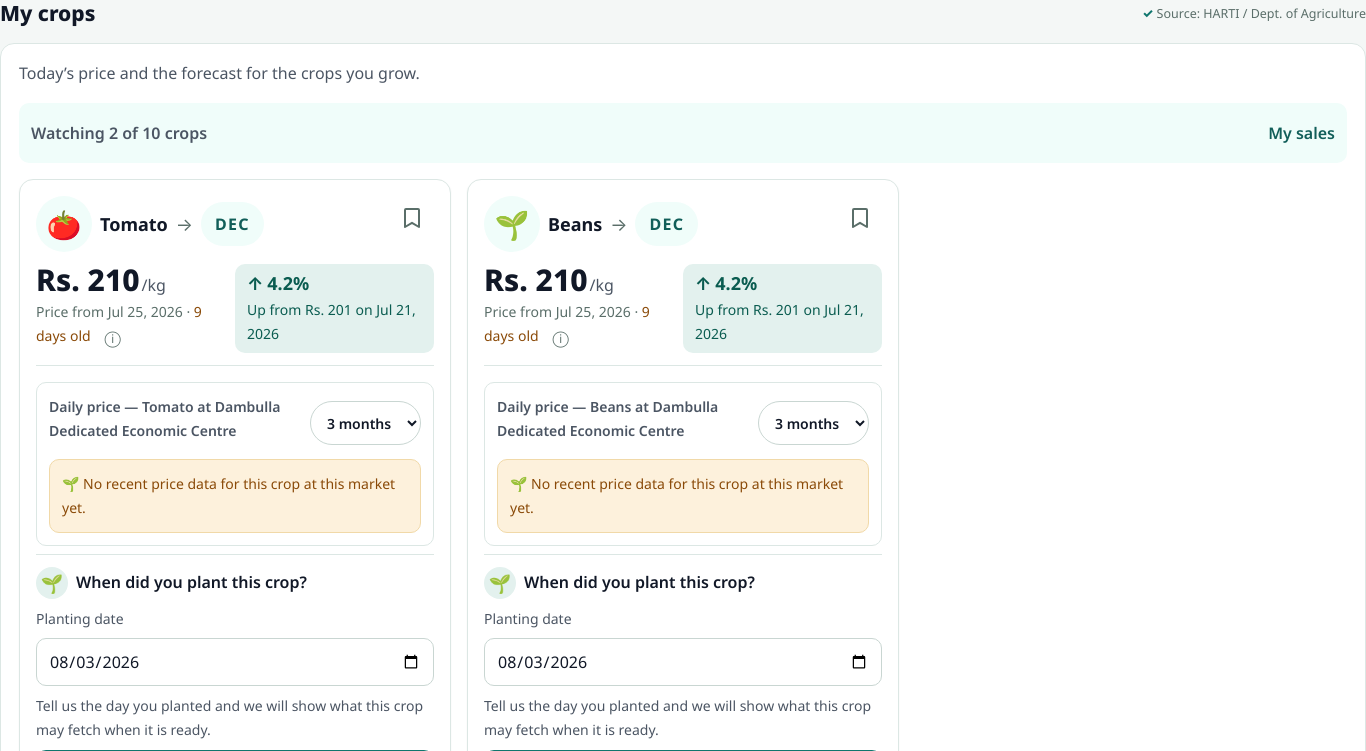
it: PortfolioPage — remove by ticking › re-reads the list after removing, so the screen shows what really landed
Click the checkbox named "Tick Tomato to remove it": click(412, 218) [400,196,424,240]
(page scrolled)
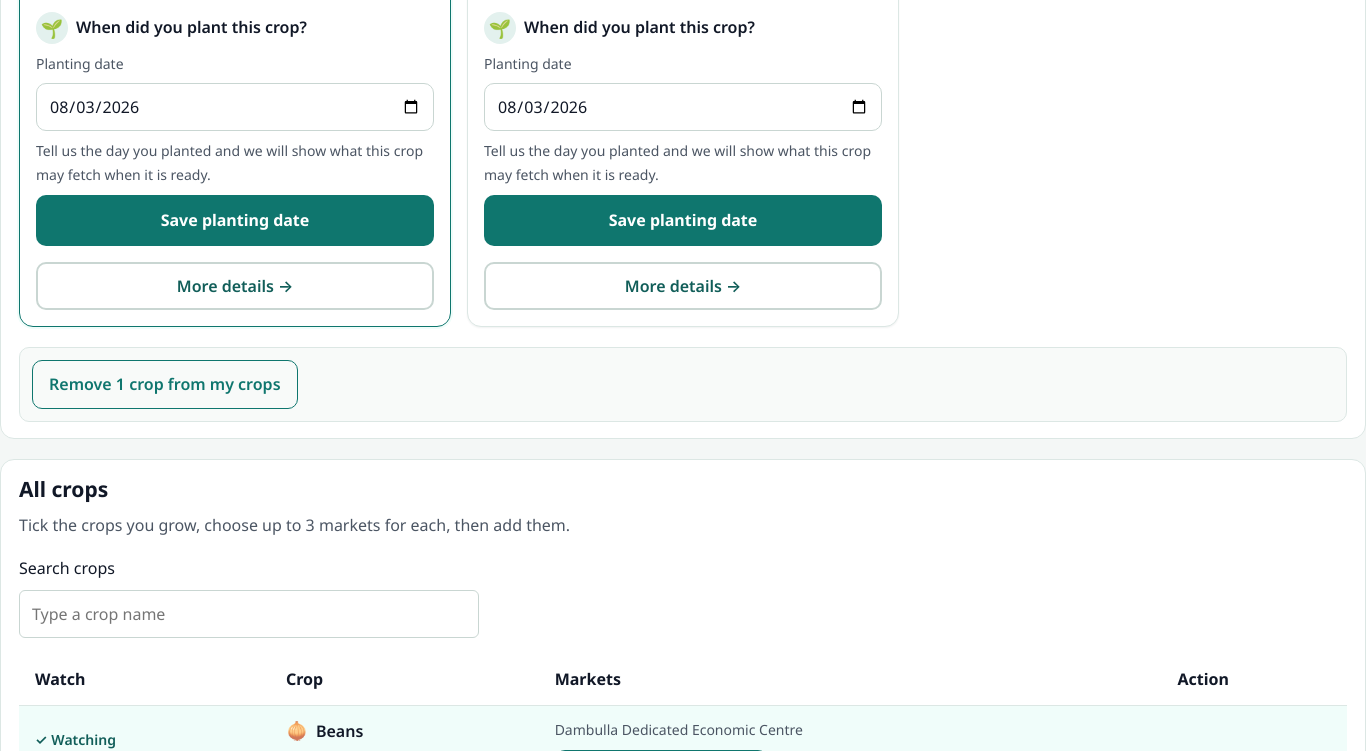
Click the button "Remove 1 crop from my crops": click(165, 385) [32,360,298,409]
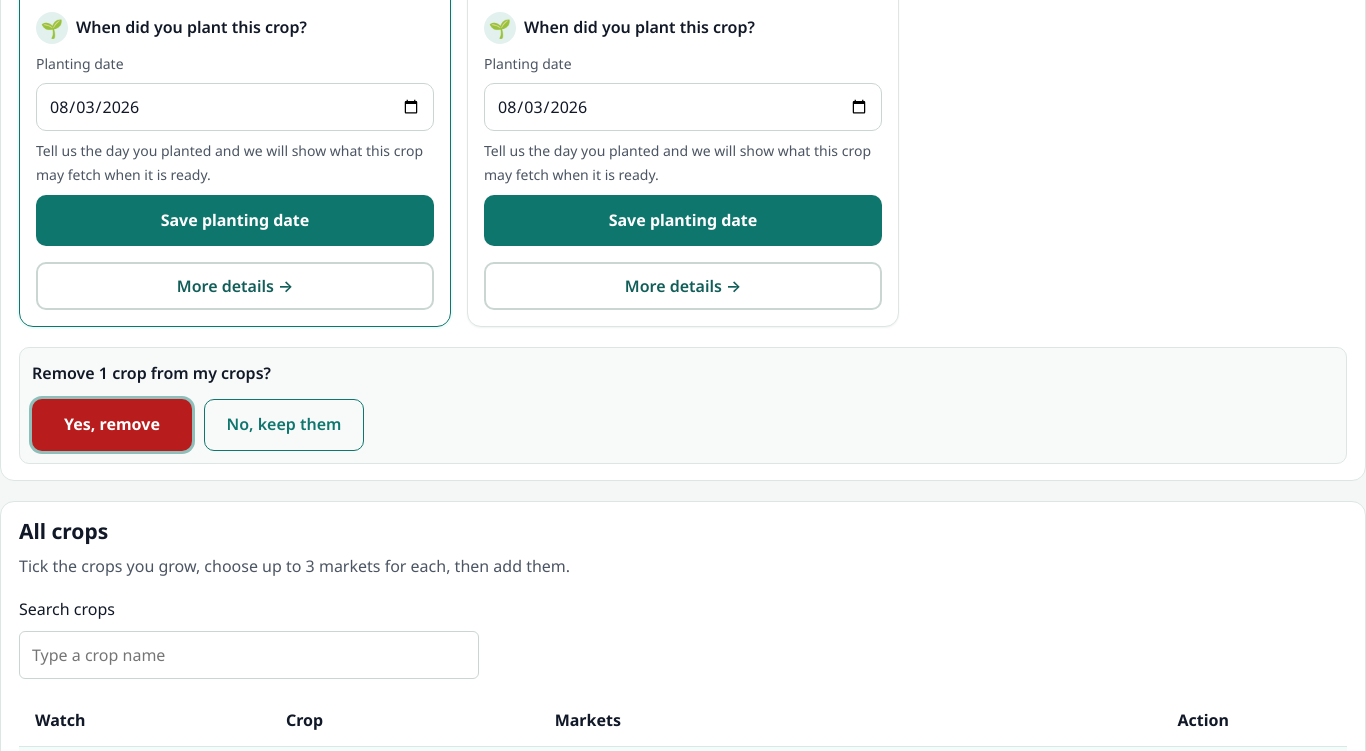
Click the button "Yes, remove": click(112, 425) [32,399,192,451]
(page scrolled)
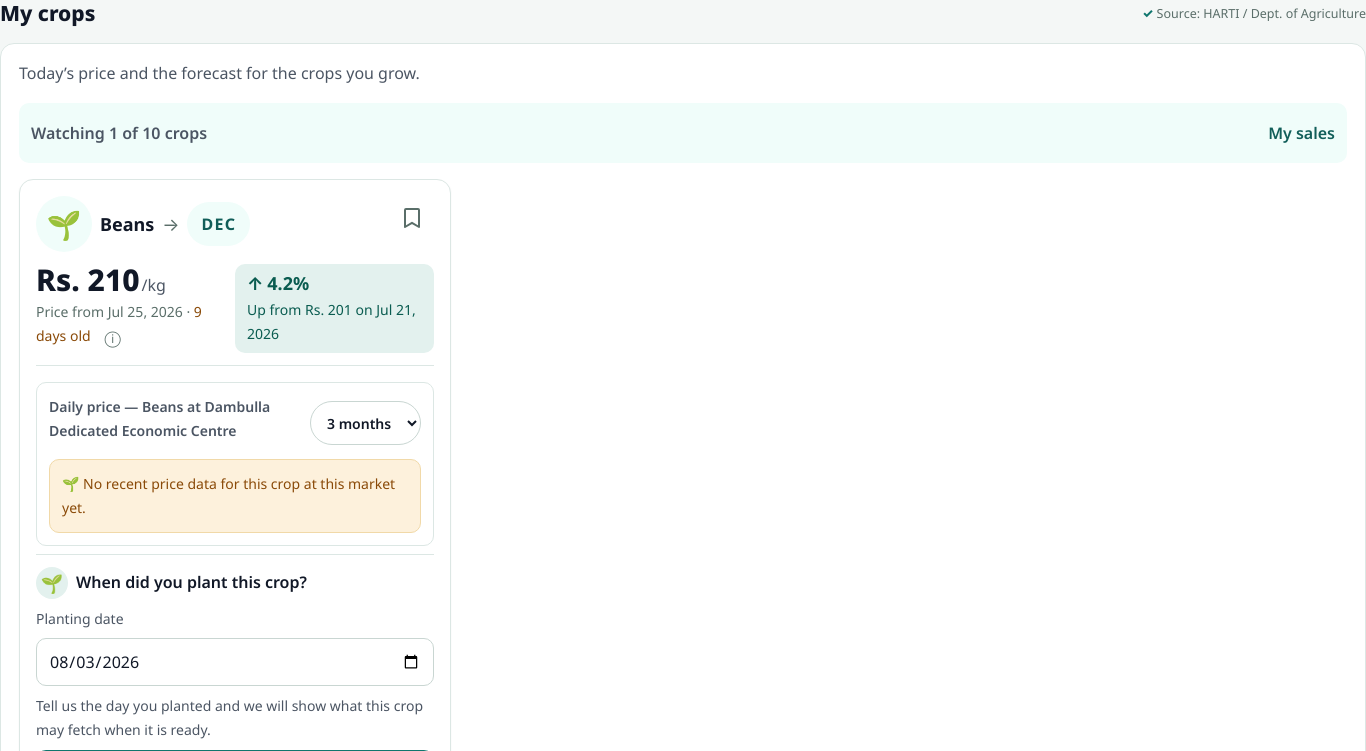
Result: the text "Watching 1 of 10 crops" is shown at [31,122,207,144]
